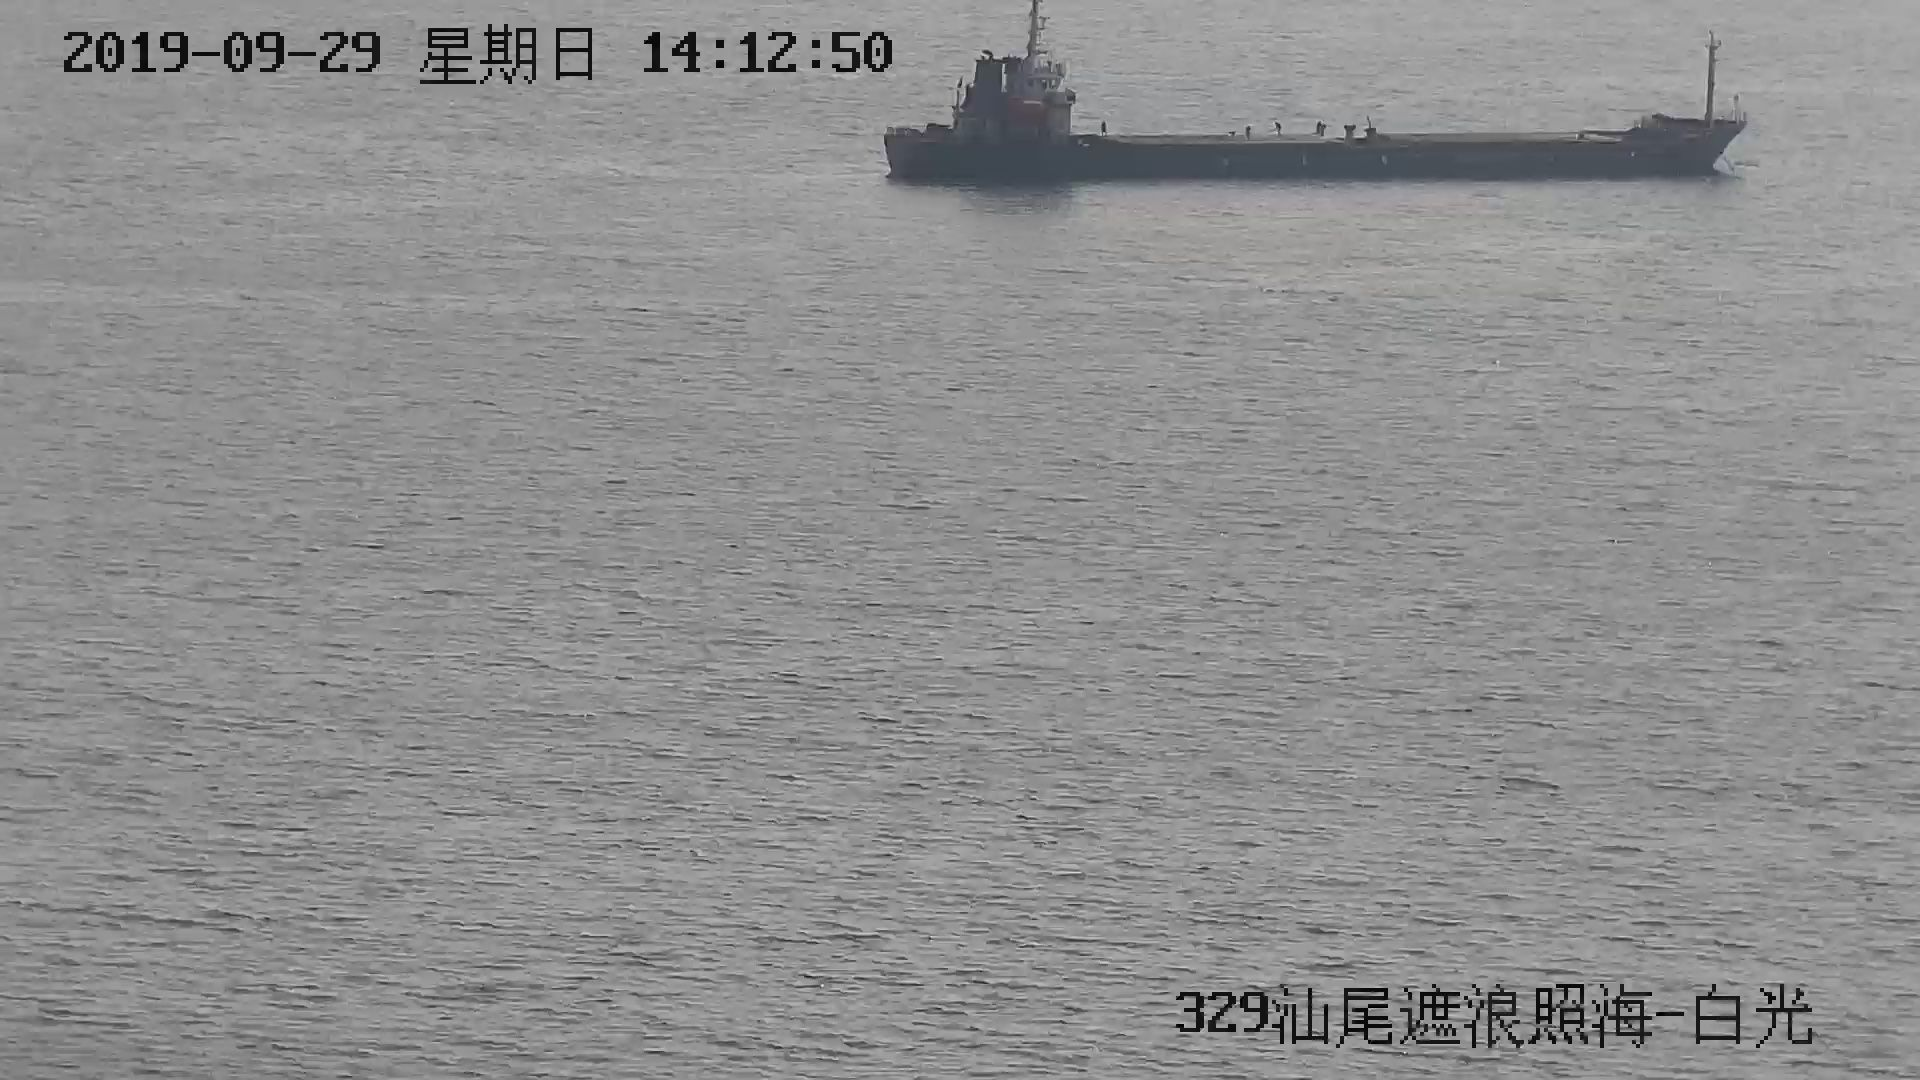ship: (878, 16, 1747, 196)
